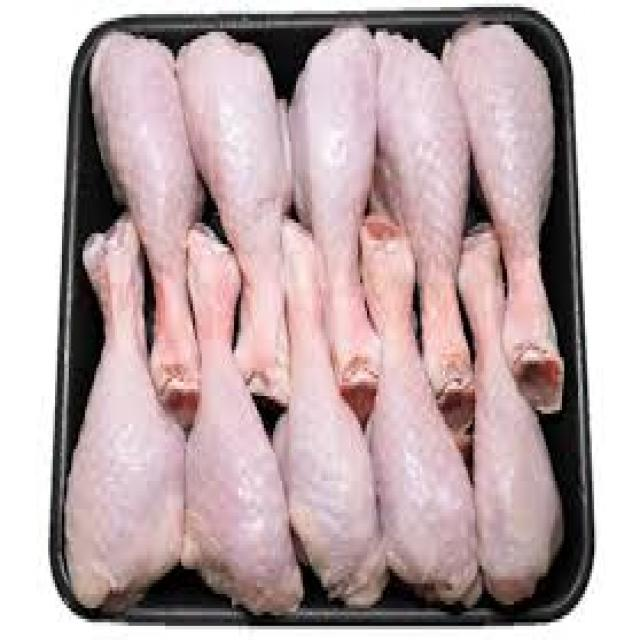chicken: (362, 216, 484, 606), (181, 226, 303, 615), (445, 25, 567, 412), (67, 219, 186, 608), (89, 32, 204, 428), (275, 219, 388, 606), (177, 32, 291, 405), (376, 32, 475, 444), (461, 226, 564, 606), (291, 28, 381, 423)
